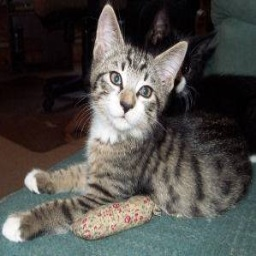cat: (4, 10, 247, 247)
